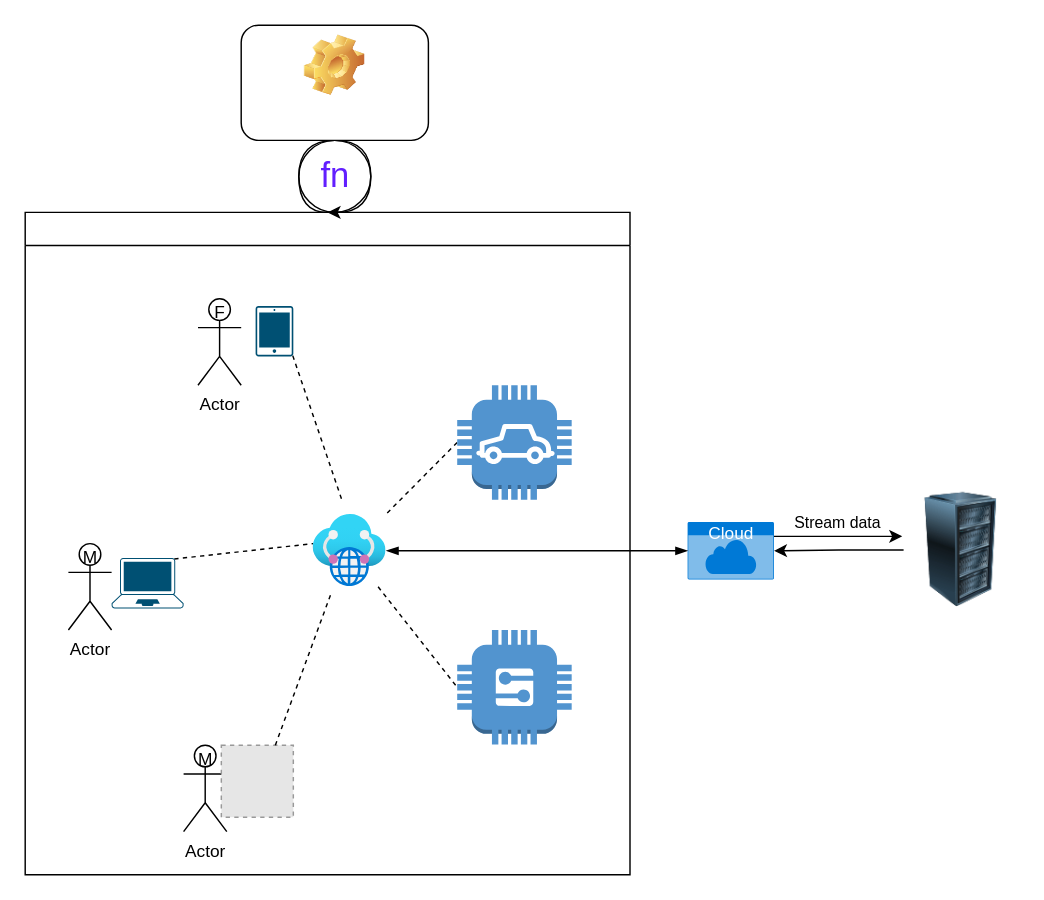
This 1044x900 diagram has some shape labels left out. Grey dashed boxes stand in for pictures. Here are the shapes that lost their labels. From the top down, the box of each, then its label:
(240, 24, 428, 140): InequalityControlDSS
(24, 211, 630, 875): Virtual computation cluster
